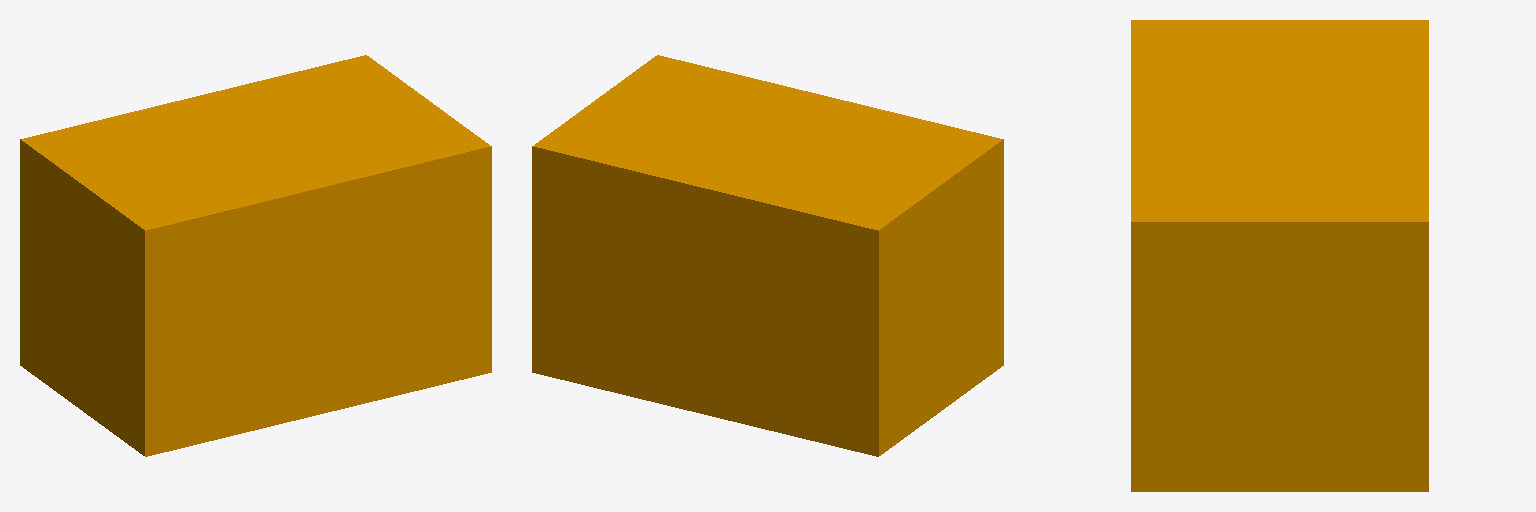
URDF robot description (object):
<?xml version="1.0"?>
<robot name="object">
  <link name="object">
    <visual>
      <origin xyz="0 0 0"/>
      <geometry>
        <mesh filename="meshes/cube_single_color.obj" scale=".4 .25 .25"/>
      </geometry>
    </visual>
    <collision>
      <origin xyz="0 0 0"/>
      <geometry>
        <box size="0.05 0.05 0.05"/>
      </geometry>
    </collision>
    <inertial>
      <density value="567.0"/>
    </inertial>
  </link>
</robot>

--- Render facts (derived) ---
3 views of the same robot in one strip: view 1: azimuth 30°, elevation 25°; view 2: azimuth 150°, elevation 25°; view 3: azimuth 270°, elevation 25° (orthographic).
Model object with 1 links and 0 joints (none), rooted at object, posed every joint at zero.
Links seen in each view (by area): view 1: object; view 2: object; view 3: object.
Boxes of the visible links, x1,y1,x2,y2 form: object: [20, 55, 491, 456]; object: [532, 55, 1003, 456]; object: [1131, 20, 1428, 491].
Bounding box of the posed robot: 0.4 × 0.25 × 0.25 m (x, y, z).
1 mesh visuals loaded from 1 distinct referenced files (1 OBJ).